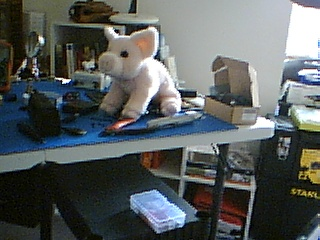piggy: (97, 25, 183, 120)
